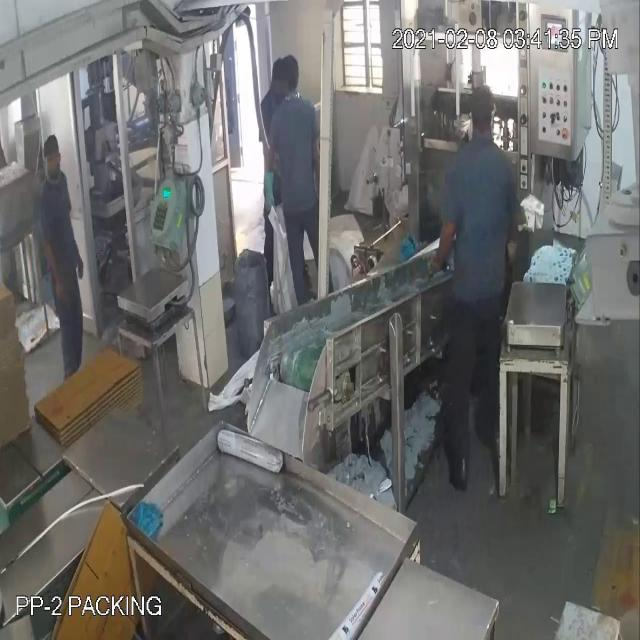No_Gloves: (33, 66, 440, 263)
